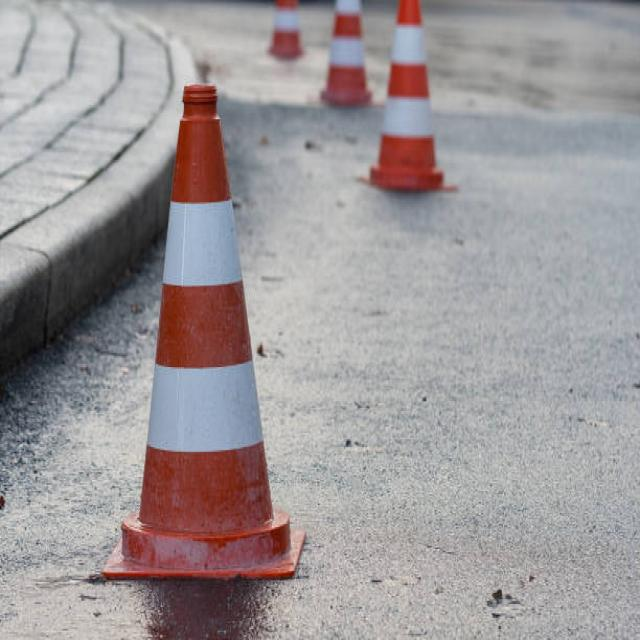Traffic Cone: (90, 38, 326, 628)
